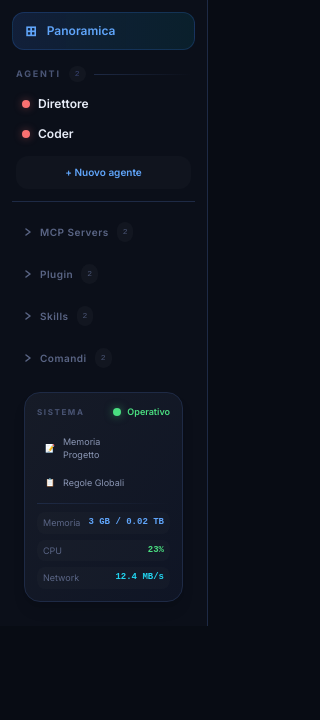
Sidebar › mostra input crea agente al click
Click the button "+ Nuovo agente" at [104, 172], box left=16, top=156, right=191, bottom=189
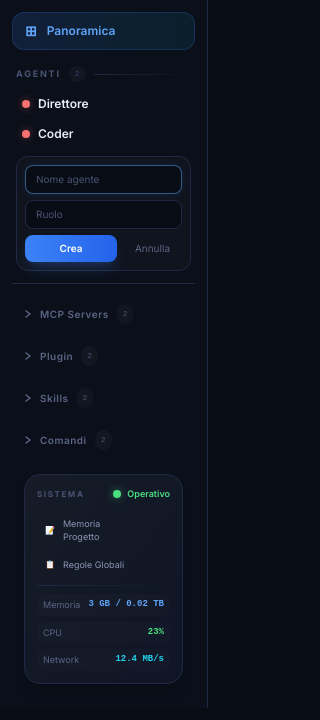
expect the field with placeholder "Nome agente" is shown: met, box left=25, top=165, right=182, bottom=194
